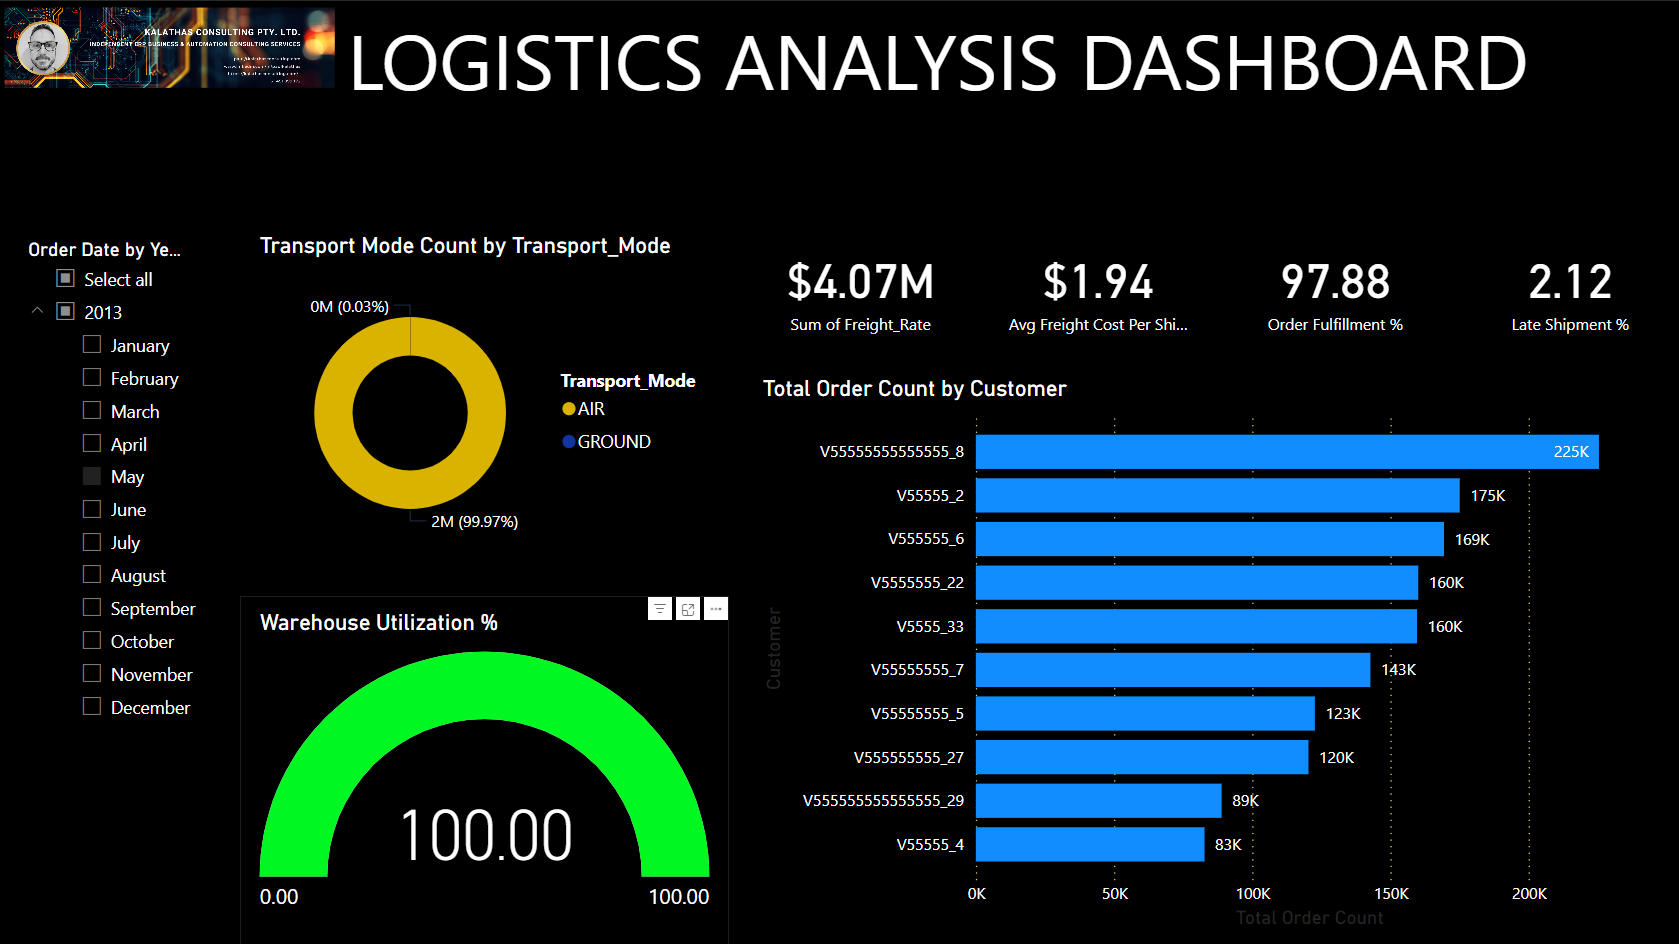

What the dashboard file says about the page in this screenshot:
{"tool":"powerbi","page":{"name":"Page 1","canvas":[1280,720],"ordinal":0},"visuals":[{"type":"card","title":"Order Fulfillment %","fields":{"Values":["logisticsdb fulldataset.Order Fulfillment %"]},"box":[930.8,168.3,170.5,99.8],"z":0},{"type":"card","title":"Late Shipment %","fields":{"Values":["logisticsdb fulldataset.Late Shipment %"]},"box":[1109.5,168.3,170.5,99.8],"z":1000},{"type":"gauge","fields":{"Y":["logisticsdb fulldataset.Warehouse Utilization %"]},"box":[183.9,452.3,371.7,267.6],"z":2000},{"type":"card","title":"Total Freight Cost","fields":{"Values":["Sum(logisticsdb fulldataset.Freight_Rate)"]},"box":[565.9,168.3,178.7,99.8],"z":3000},{"type":"card","title":"Avg. Freight Cost per Shipment","fields":{"Values":["logisticsdb fulldataset.Avg Freight Cost Per Shipment"]},"box":[751.3,168.3,170.5,99.8],"z":4000},{"type":"donutChart","fields":{"Y":["logisticsdb fulldataset.Transport Mode Count"],"Category":["logisticsdb fulldataset.Transport_Mode"]},"box":[183.9,165.7,371.7,275.9],"z":5000},{"type":"textbox","box":[260.7,0,912.9,149.7],"z":5500},{"type":"barChart","fields":{"Category":["logisticsdb fulldataset.Customer"],"Y":["Top 5 Customers.Total Order Count"]},"box":[566.3,274.4,713.7,445.4],"z":6000},{"type":"slicer","fields":{"Values":["logisticsdb fulldataset.Order_Date.Variation.Date Hierarchy.Year","logisticsdb fulldataset.Order_Date.Variation.Date Hierarchy.Month"]},"box":[0,165.7,174.8,554.1],"z":7000},{"type":"image","box":[0,0,260.7,70.7],"z":8000}]}

Visuals, with their boxes in screenshot pixels (x1, y1, x2, y2), scaled from the page's 1280x720 canvas onto the 1679x944 screenshot:
"Order Fulfillment %" card: x1=1221, y1=221, x2=1445, y2=352
"Late Shipment %" card: x1=1455, y1=221, x2=1678, y2=352
gauge - logisticsdb fulldataset.Warehouse Utilization %: x1=241, y1=593, x2=729, y2=943
"Total Freight Cost" card: x1=742, y1=221, x2=977, y2=352
"Avg. Freight Cost per Shipment" card: x1=985, y1=221, x2=1209, y2=352
donutChart - logisticsdb fulldataset.Transport Mode Count x logisticsdb fulldataset.Transport_Mode: x1=241, y1=217, x2=729, y2=579
textbox: x1=342, y1=0, x2=1539, y2=196
barChart - logisticsdb fulldataset.Customer x Top 5 Customers.Total Order Count: x1=743, y1=360, x2=1678, y2=943
slicer - logisticsdb fulldataset.Order_Date.Variation.Date Hierarchy.Year x logisticsdb fulldataset.Order_Date.Variation.Date Hierarchy.Month: x1=0, y1=217, x2=229, y2=943
image: x1=0, y1=0, x2=342, y2=93
